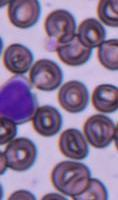L: (0, 74, 38, 123)
